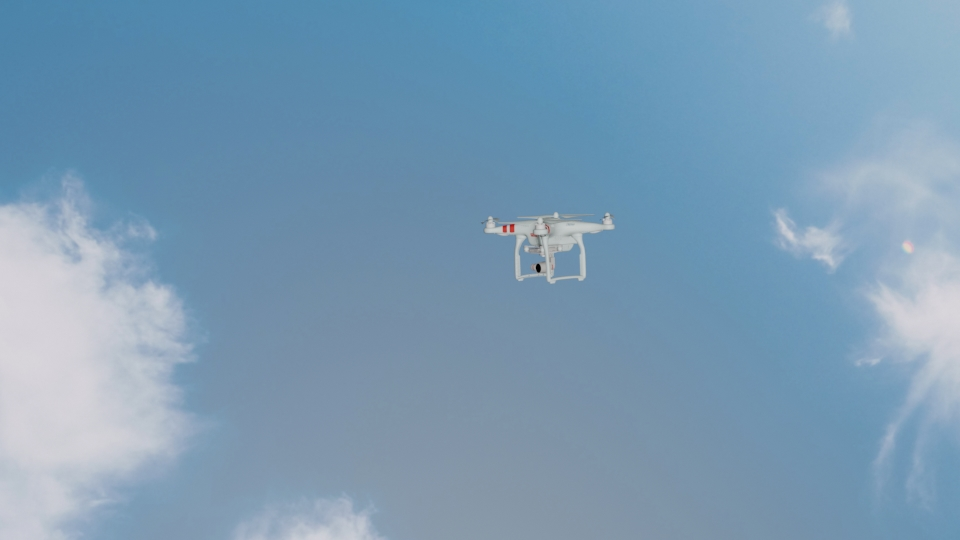drone: (481, 208, 613, 288)
